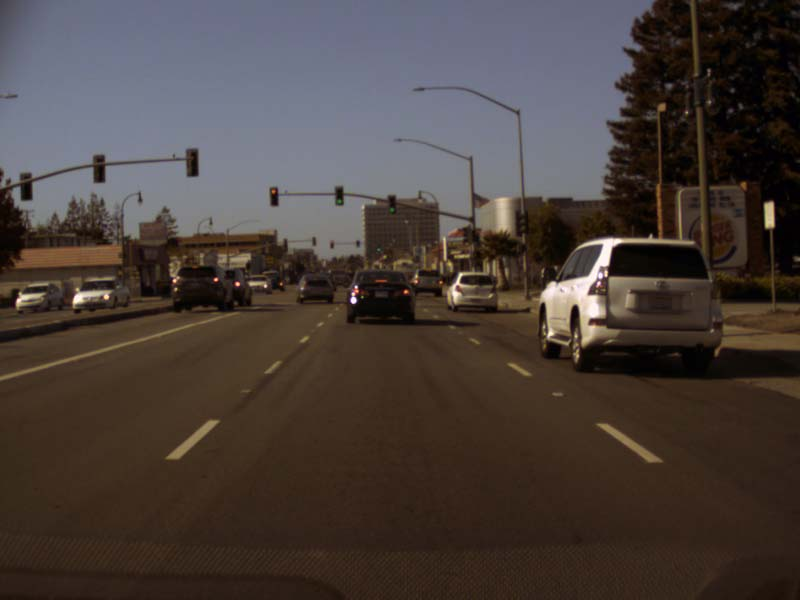Green: (335, 185, 343, 205), (388, 194, 394, 212), (474, 234, 477, 246), (377, 246, 380, 252), (356, 240, 359, 246)
Red: (269, 186, 278, 206), (330, 240, 333, 247)
